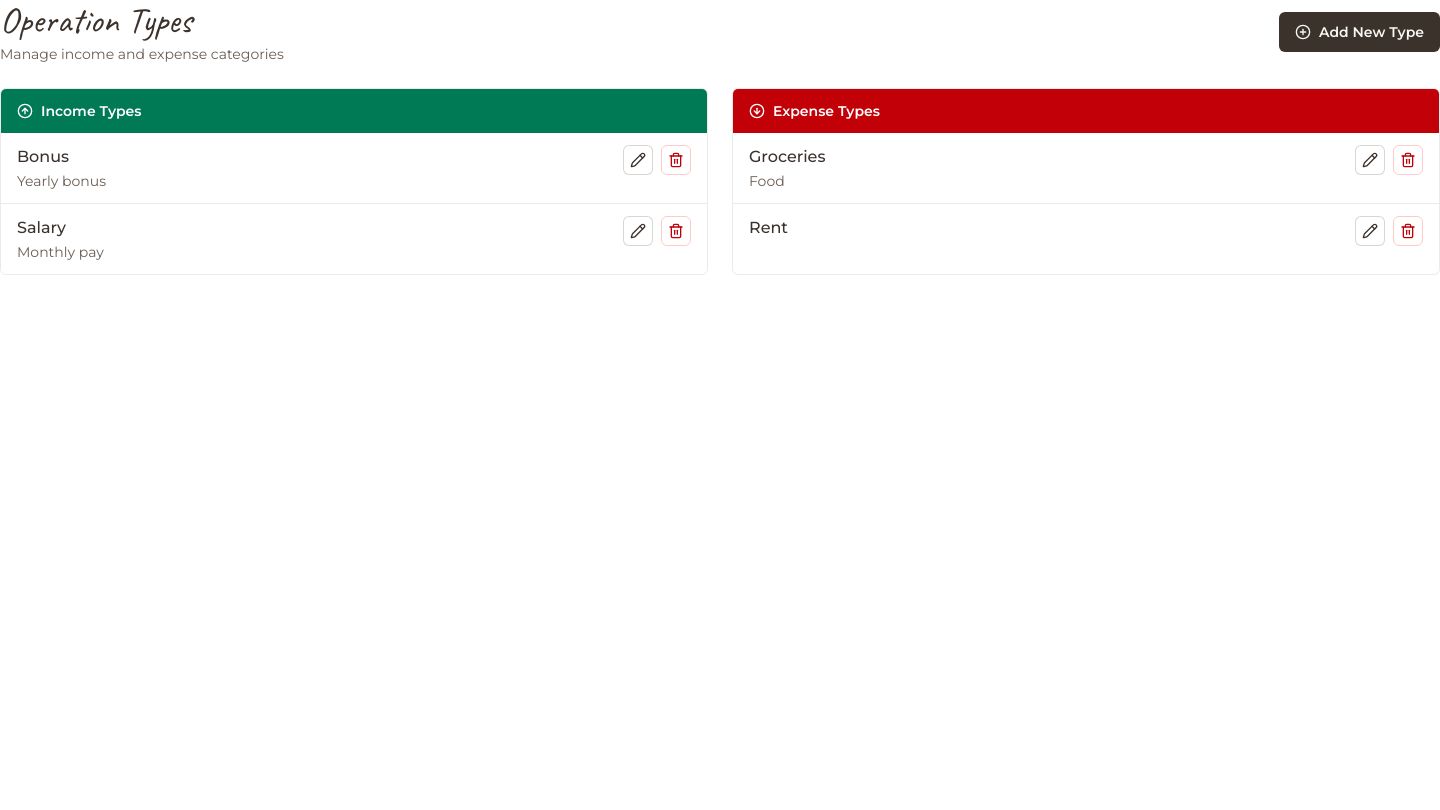
it: OperationTypes › keeps the delete dialog open when delete fails
Expected: the text "Income Types" is shown, x1=1 y1=89 x2=707 y2=133
Expected: the text "Expense Types" is shown, x1=733 y1=89 x2=1439 y2=133
Click the button named "Delete Groceries" at (1408, 160), box x1=1393 y1=145 x2=1423 y2=175
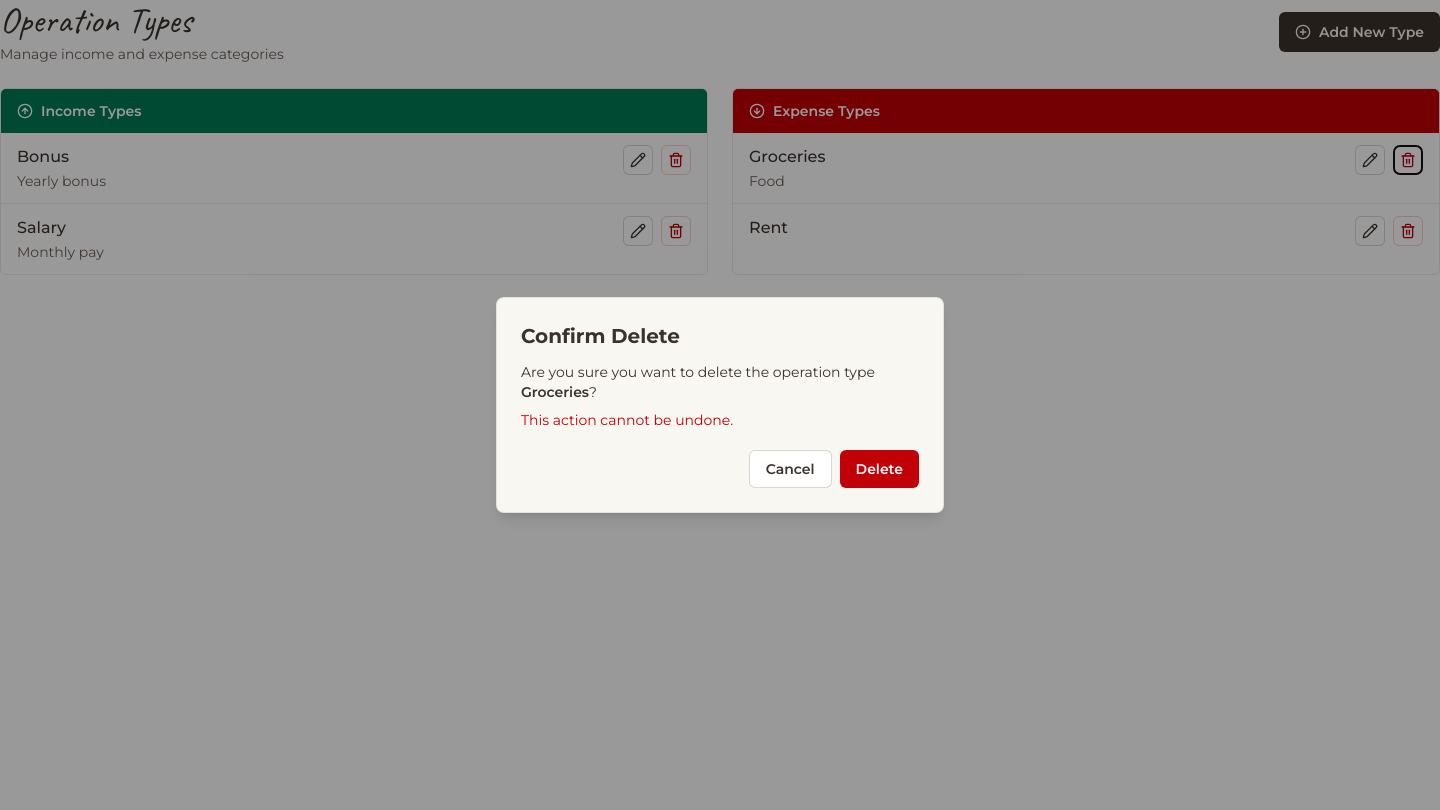
Click the button "Delete" at (879, 469), box x1=840 y1=450 x2=919 y2=488
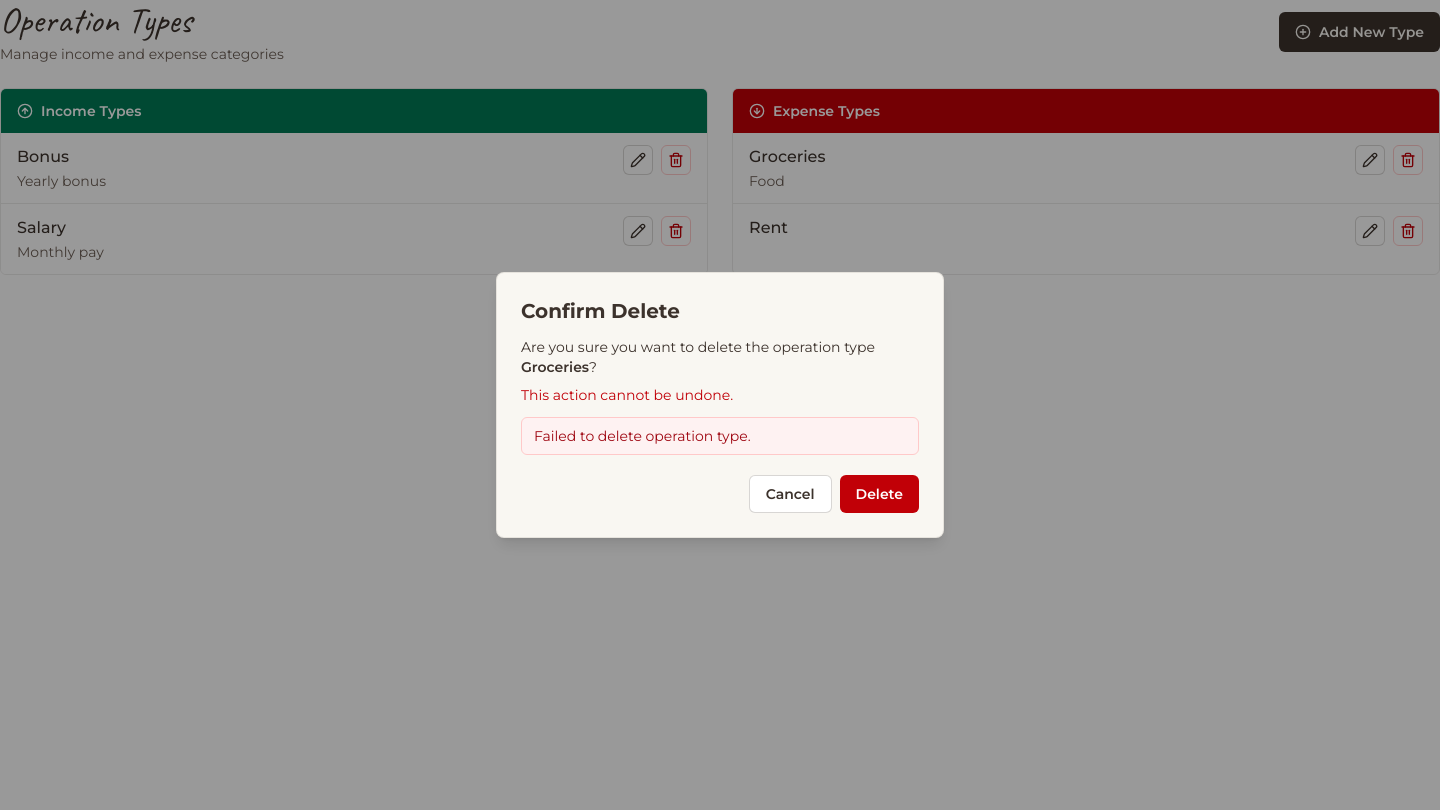
Now the heading "Confirm Delete" is shown, box x1=521 y1=299 x2=680 y2=323
Now the text "Failed to delete operation type." is shown, box x1=521 y1=417 x2=919 y2=455
